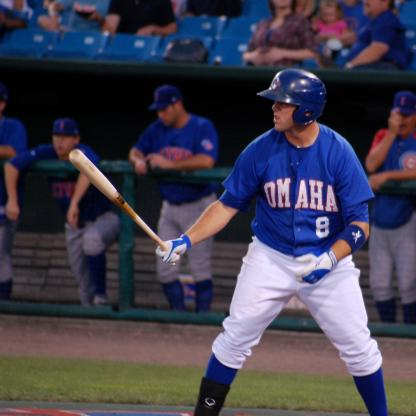Helmet: (259, 70, 335, 130)
